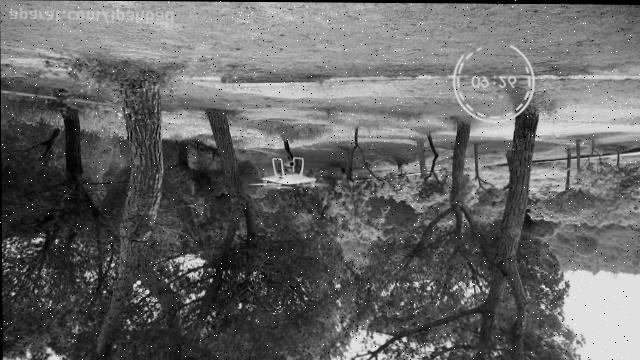drone: (246, 156, 330, 191)
